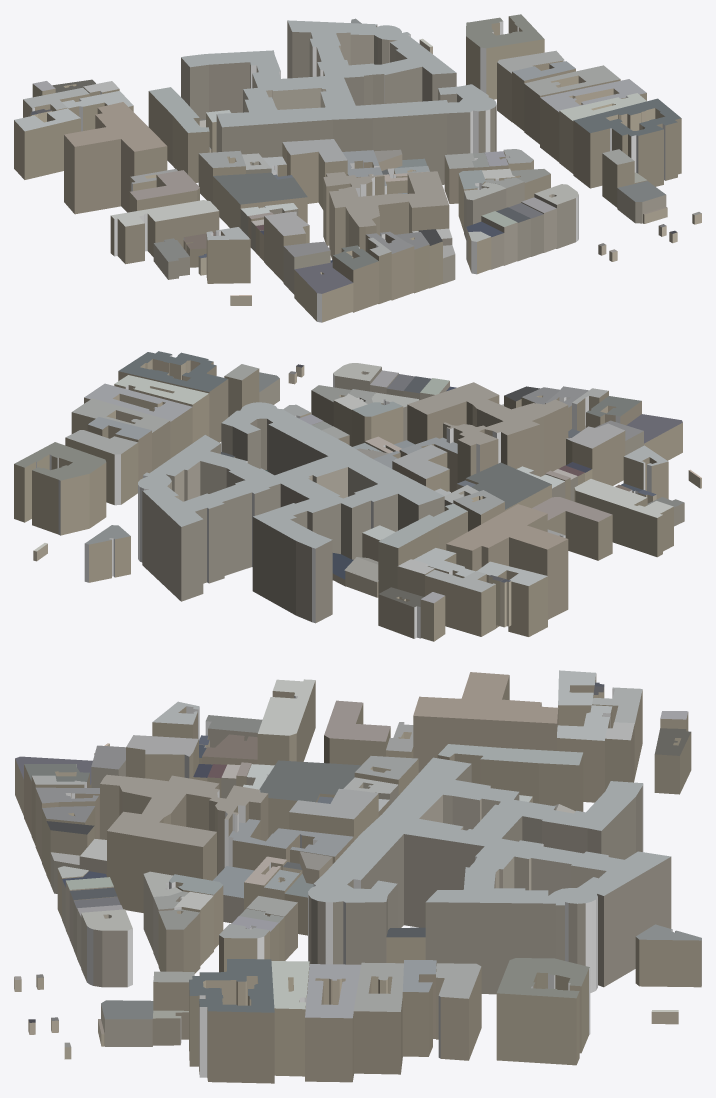
3 views of the same model, one above another, from view 1: azimuth 30°, elevation 25°; view 2: azimuth 150°, elevation 25°; view 3: azimuth 270°, elevation 25° (orthographic). The views are drawn at different scales.
Visible parts, largest first — view 1: tuile; view 2: tuile; view 3: tuile.
Part boxes in pixels (left/top/right/bottom): tuile: left=14, top=14, right=701, bottom=322; tuile: left=14, top=351, right=701, bottom=641; tuile: left=14, top=670, right=701, bottom=1083.
Size of the model in its own units: 289 by 38.52 by 252.
